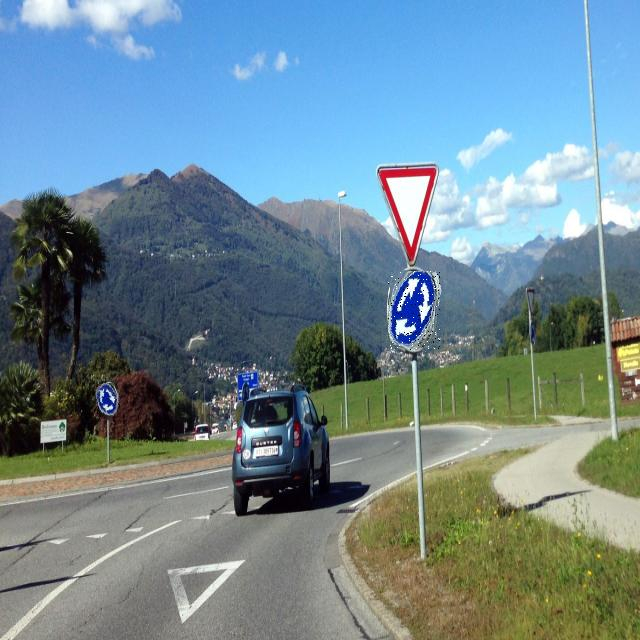roundabout: (388, 271, 440, 350), (96, 383, 120, 418)
